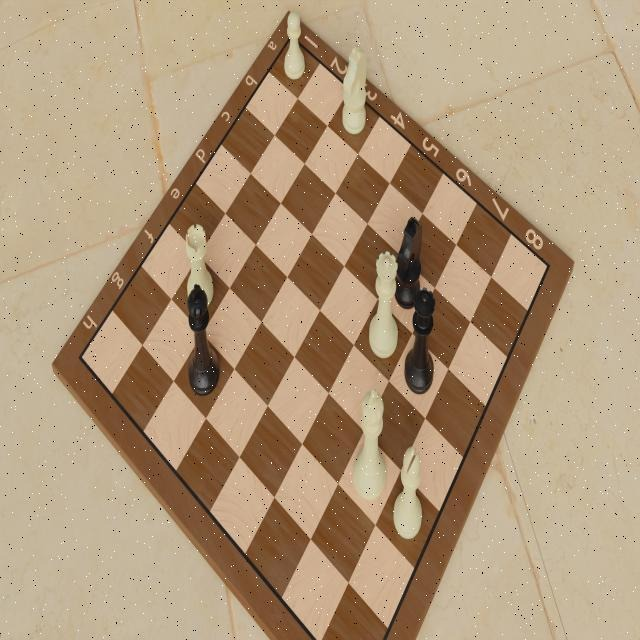black-king: (184, 279, 219, 397)
black-knight: (394, 209, 422, 311)
black-queen: (404, 286, 437, 398)
white-bishop: (392, 442, 424, 542)
white-king: (354, 384, 389, 504)
white-knight: (341, 43, 369, 137)
white-pawn: (281, 5, 307, 82)
white-queen: (368, 246, 400, 362)
white-rook: (185, 220, 215, 310)
